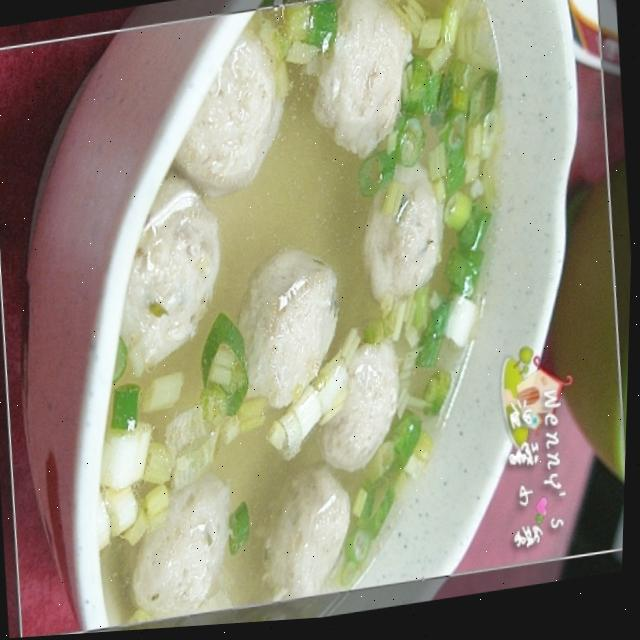熟制海鲜: (51, 0, 588, 618)
